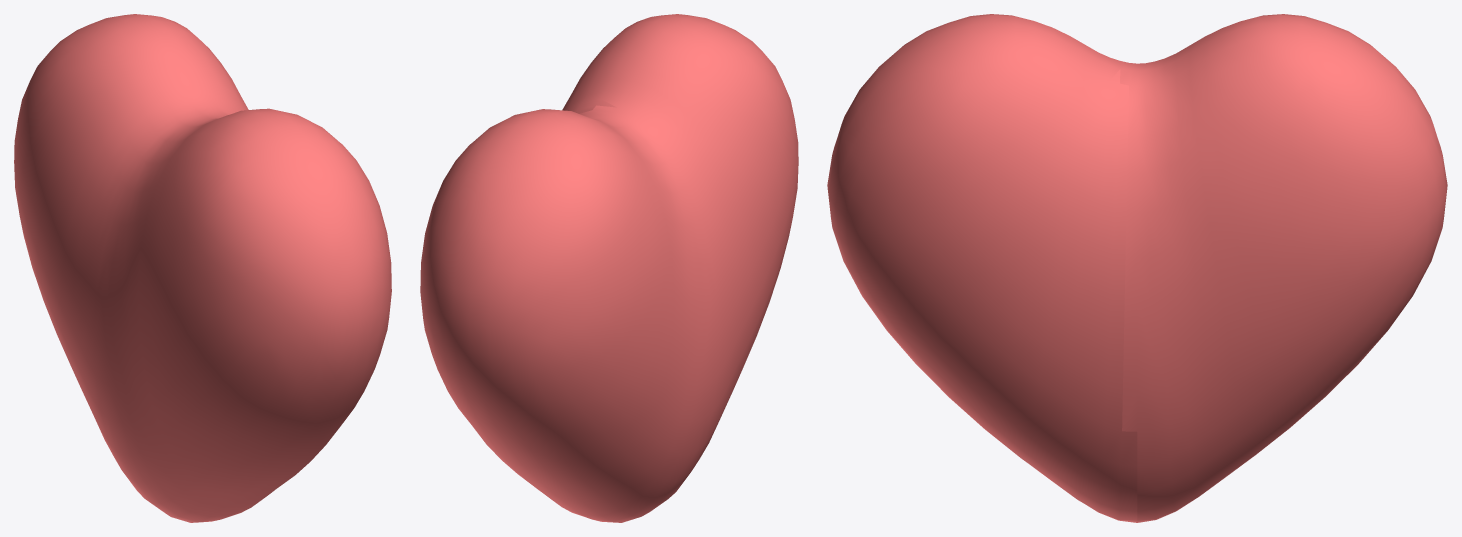
The model's file is Vida.FBX.
3 renders of one model, left to right at view 1: azimuth 30°, elevation 25°; view 2: azimuth 150°, elevation 25°; view 3: azimuth 270°, elevation 25°, orthographic. The views are drawn at different scales.
Visible parts, largest first — view 1: Heart; view 2: Heart; view 3: Heart.
Part boxes in pixels (x1,y1,x2,y2): Heart: (14, 14, 391, 522); Heart: (420, 14, 798, 522); Heart: (827, 14, 1447, 522).
Bounding box in the file's own units: 0.9184 × 1.89 × 2.17.
